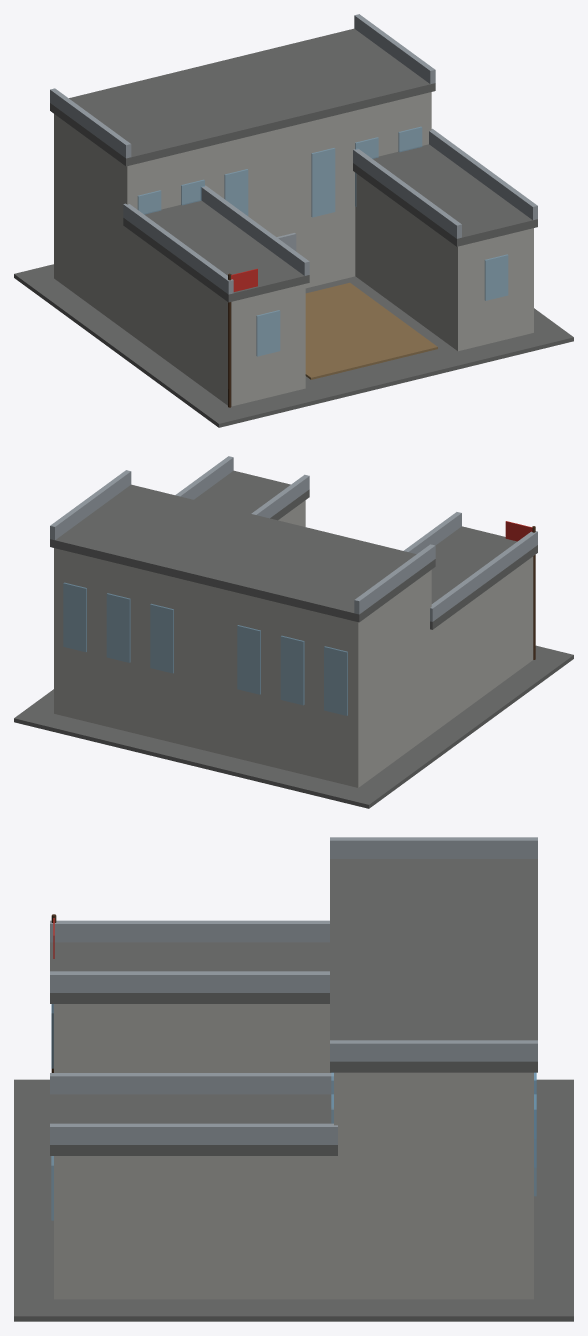
File: bld_special_barracks_a06.glb
3 renders of one model, top to bottom at view 1: azimuth 30°, elevation 25°; view 2: azimuth 150°, elevation 25°; view 3: azimuth 270°, elevation 25°, orthographic. The views are drawn at different scales.
Parts seen in each view (by area): view 1: body; view 2: body; view 3: body.
Part boxes in pixels (box(x1,y1,x2,y2)): body: box(14, 14, 573, 427); body: box(14, 456, 573, 808); body: box(14, 837, 573, 1321).
Size of what is drawn, in the model's own units: 14 by 7.25 by 14.
